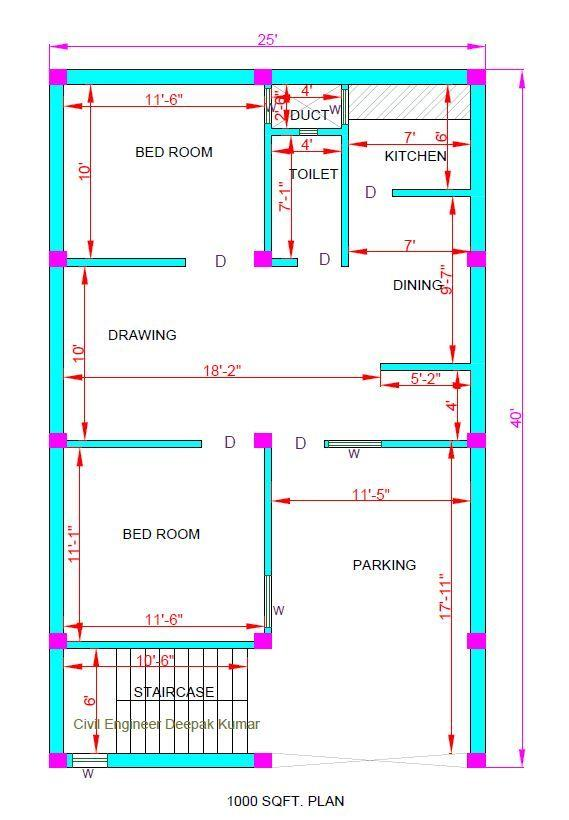Blueprint: (43, 59, 498, 776)
wall: (64, 67, 258, 87), (268, 67, 470, 86), (47, 445, 67, 635), (47, 264, 67, 436), (468, 82, 488, 254), (469, 446, 487, 636), (468, 264, 488, 435), (47, 82, 66, 254), (106, 750, 257, 769), (65, 638, 256, 652), (468, 646, 489, 755), (47, 647, 67, 756), (339, 122, 352, 270), (62, 438, 206, 450), (263, 445, 274, 579), (262, 121, 273, 253), (64, 257, 189, 268), (377, 360, 472, 373), (390, 187, 472, 199), (381, 438, 469, 449), (268, 125, 301, 139), (269, 256, 301, 269), (317, 126, 343, 137)
